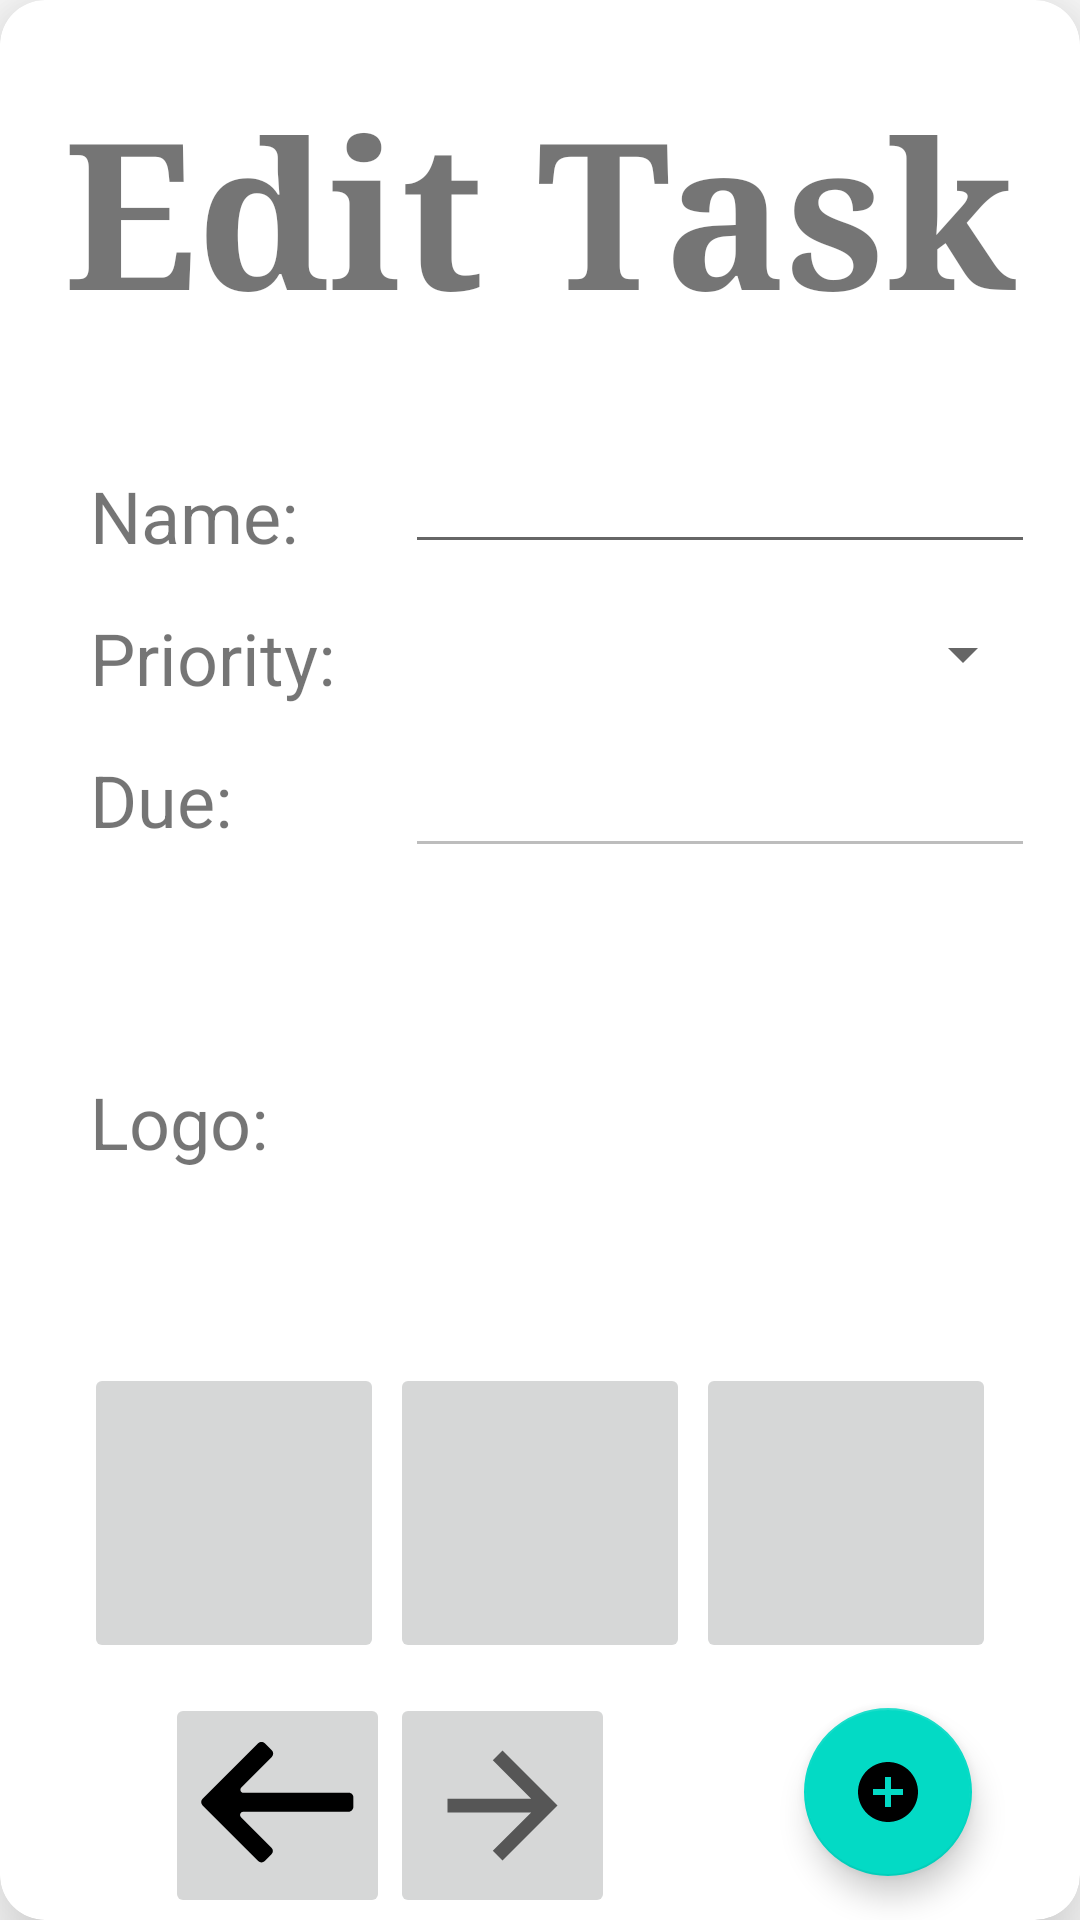

Named icons in this screenshot (1080w x 1920h) and their bounding boxes, (x1, y1, x2, y2):
add circle: (804, 1708, 972, 1876)
arrow forward: (402, 1711, 603, 1900)
back: (177, 1711, 378, 1900)
